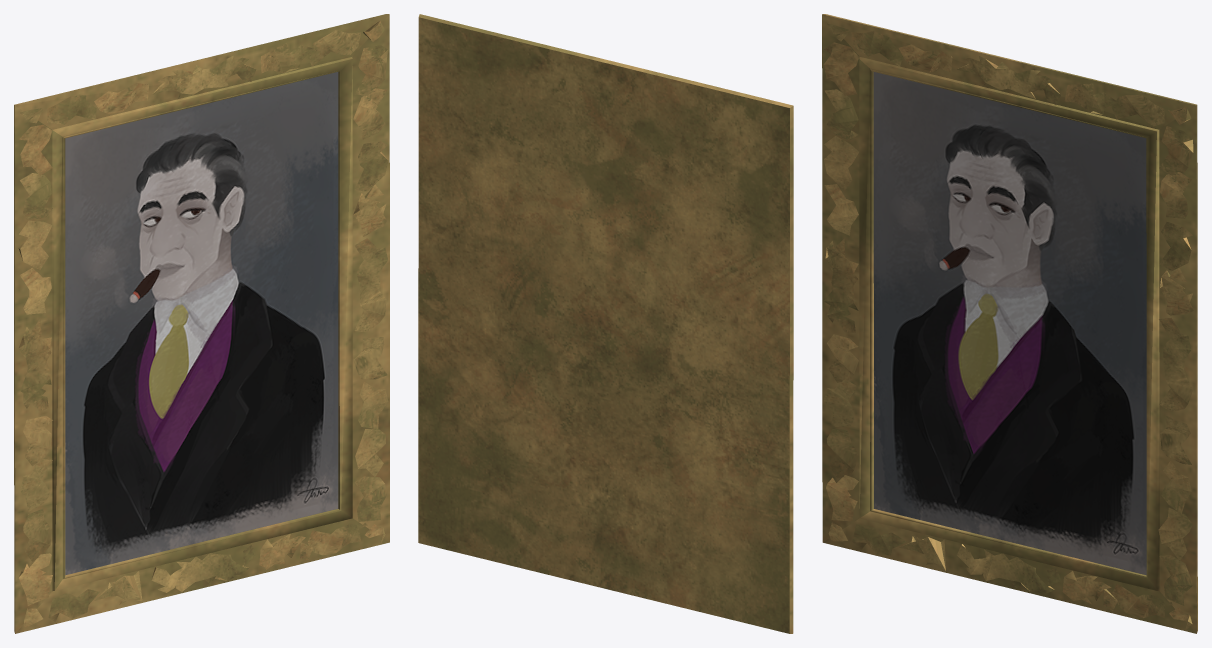
Rendered from portrait.glb.
3 views of the same model, side by side, from view 1: azimuth 30°, elevation 25°; view 2: azimuth 150°, elevation 25°; view 3: azimuth 330°, elevation 25° (orthographic).
Parts seen in each view (by area): view 1: portrait; view 2: portrait; view 3: portrait.
Boxes of the visible parts, x1,y1,x2,y2 form: portrait: (14, 14, 389, 633); portrait: (418, 14, 793, 633); portrait: (822, 14, 1197, 633).
Size of the model in its own units: 0.4644 by 0.626 by 0.00965.
2 materials, 2 textured.
